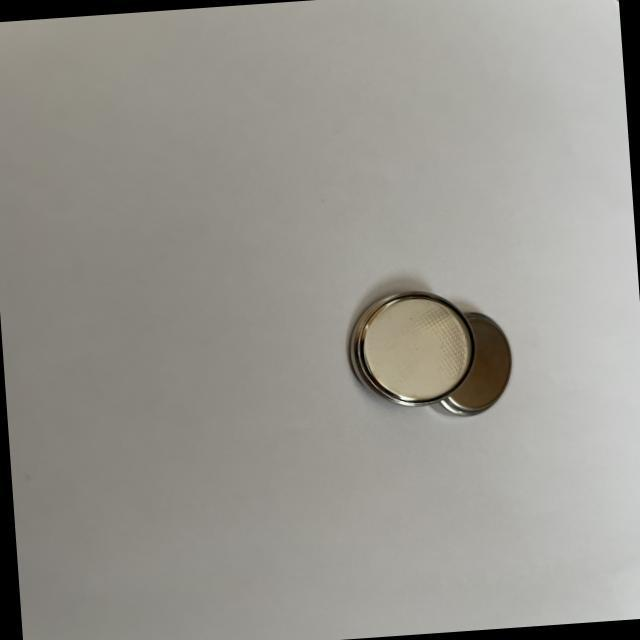COIN: (342, 286, 476, 412), (426, 307, 514, 418)
